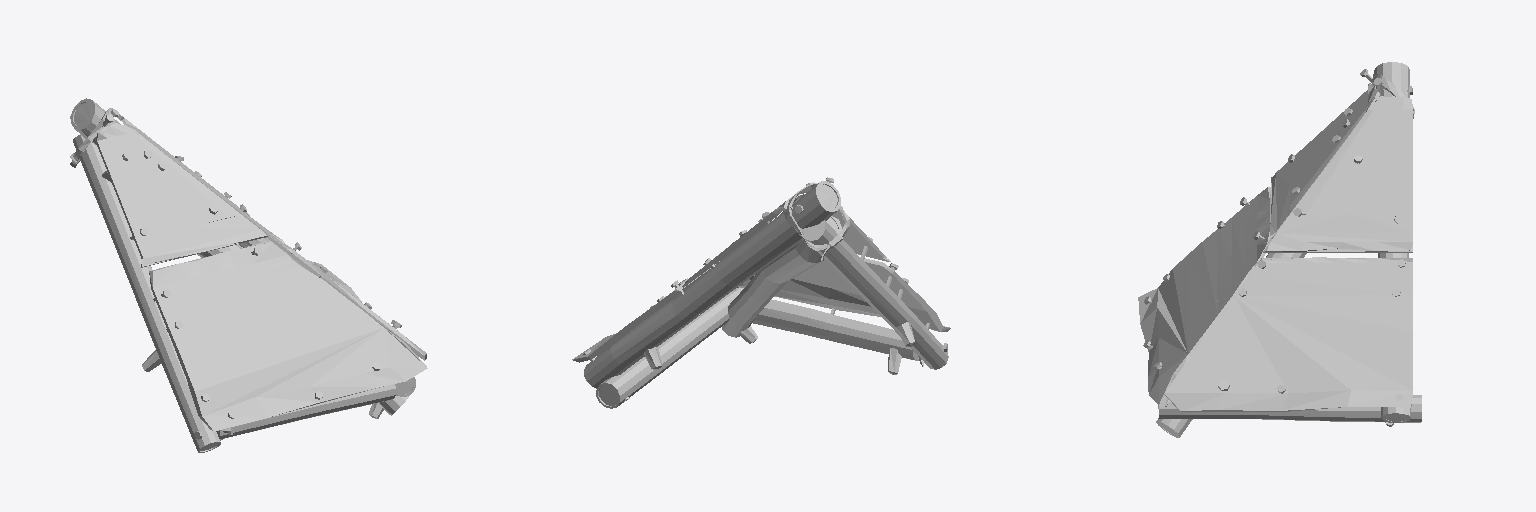
Rendered from RaftFloorOuterCorner.obj.
The picture shows the model from 3 angles: view 1: azimuth 30°, elevation 25°; view 2: azimuth 150°, elevation 25°; view 3: azimuth 270°, elevation 25°; orthographic projection.
Visible parts, largest first — view 1: Cube.004; view 2: Cube.004; view 3: Cube.004.
Part boxes in pixels (left/top/right/bottom): Cube.004: left=70, top=98, right=427, bottom=452; Cube.004: left=572, top=177, right=950, bottom=408; Cube.004: left=1138, top=62, right=1421, bottom=437.
Size of the model in its own units: 4.22 by 4.37 by 3.96.